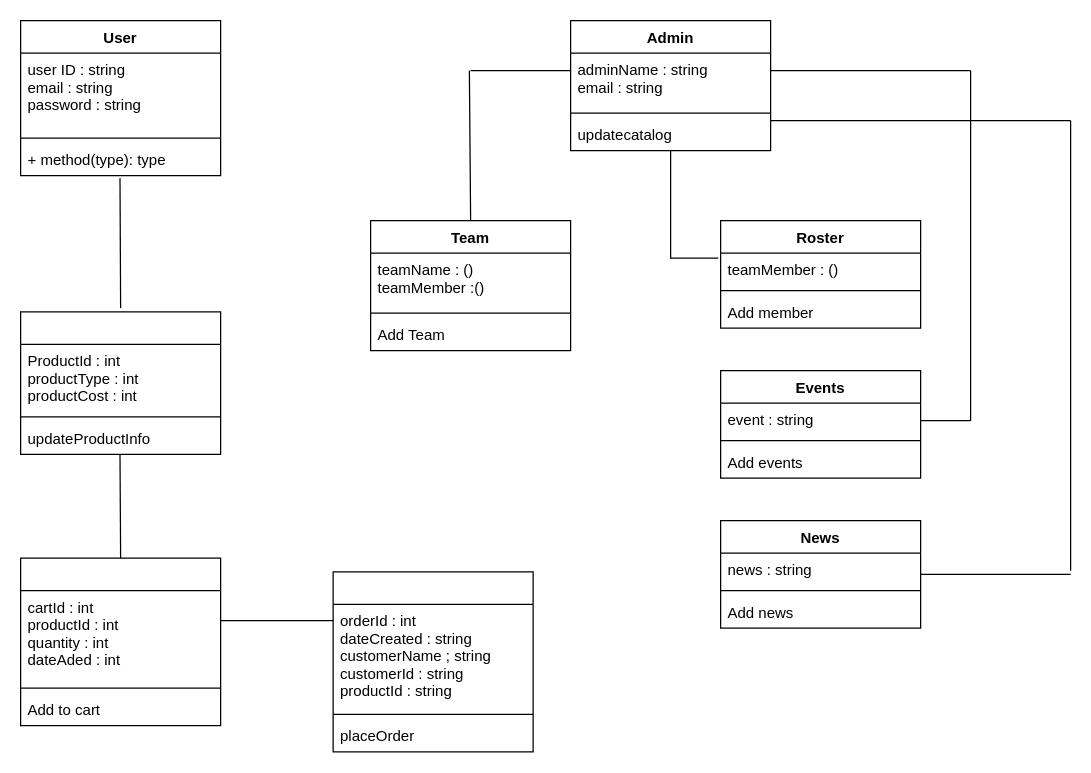
Image size: 1091x773. Some labels were removed from this diagram. The box of each missing label's shape, as (x1, y1, x2, y2) in pixels:
Orders: (332, 571, 533, 752)
Shooping Cart: (19, 557, 221, 726)
Shop: (19, 311, 221, 454)
